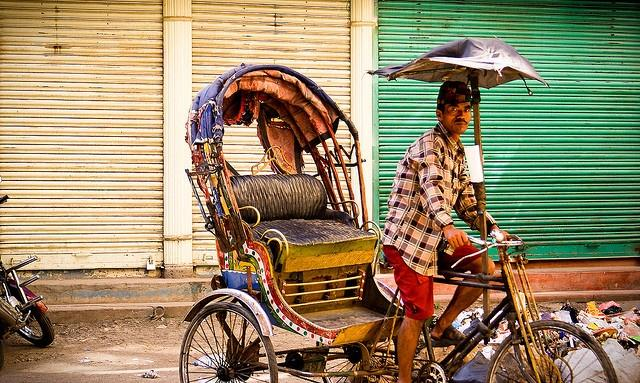Rickshaw: (173, 56, 623, 382)
